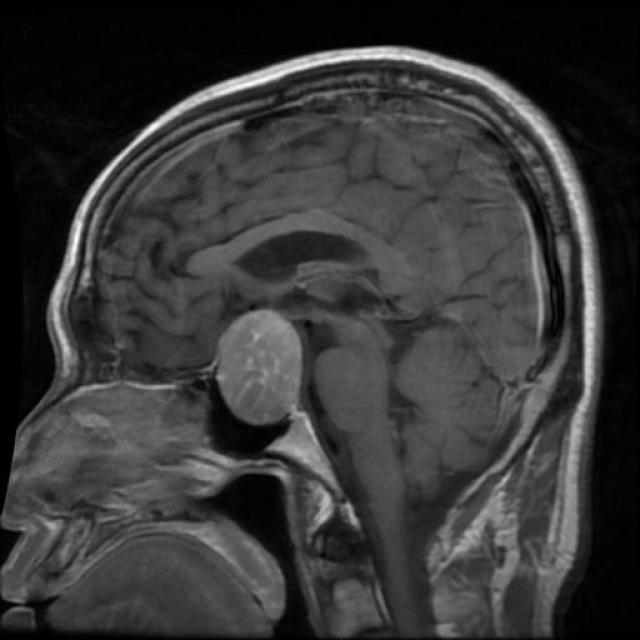Brain-Tumor: (208, 300, 316, 436)
